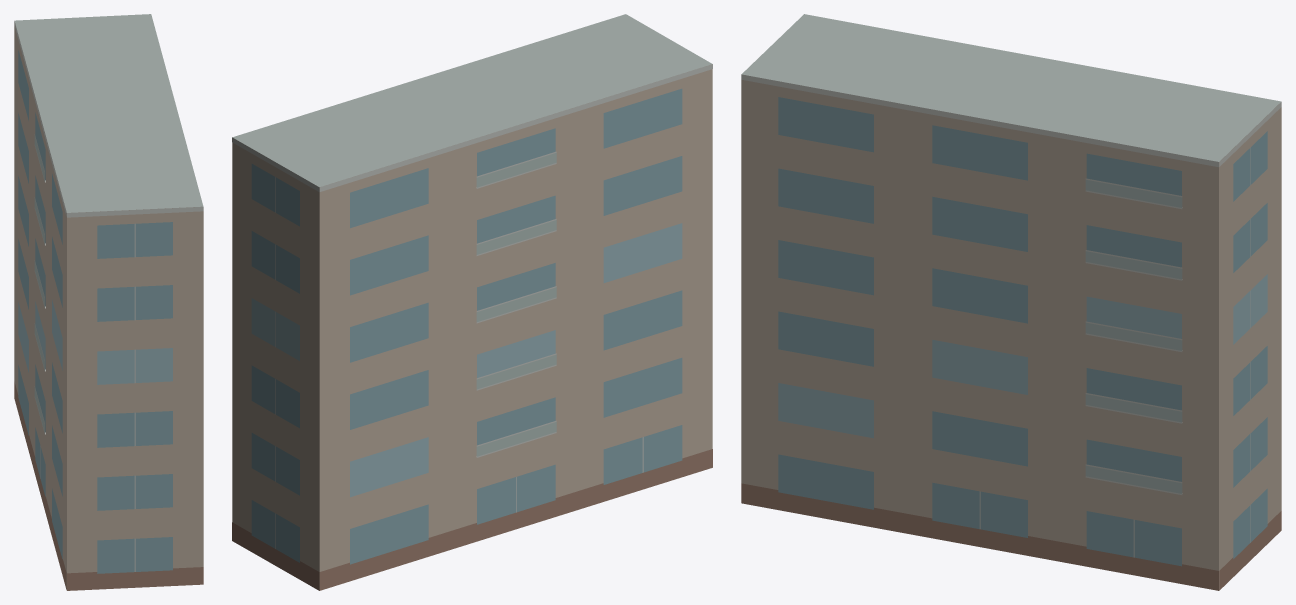
File: survey-upis-32525142.glb
3 renders of one model, left to right at view 1: azimuth 30°, elevation 25°; view 2: azimuth 150°, elevation 25°; view 3: azimuth 270°, elevation 25°, orthographic. The views are drawn at different scales.
Visible parts, largest first — view 1: survey-upis-32525142.tmp; view 2: survey-upis-32525142.tmp; view 3: survey-upis-32525142.tmp.
Part boxes in pixels (bbox=[...]): survey-upis-32525142.tmp: bbox=[14, 14, 203, 590]; survey-upis-32525142.tmp: bbox=[232, 14, 712, 590]; survey-upis-32525142.tmp: bbox=[741, 14, 1281, 590].
Size of the model in its own units: 14.59 by 19.7 by 22.5.
